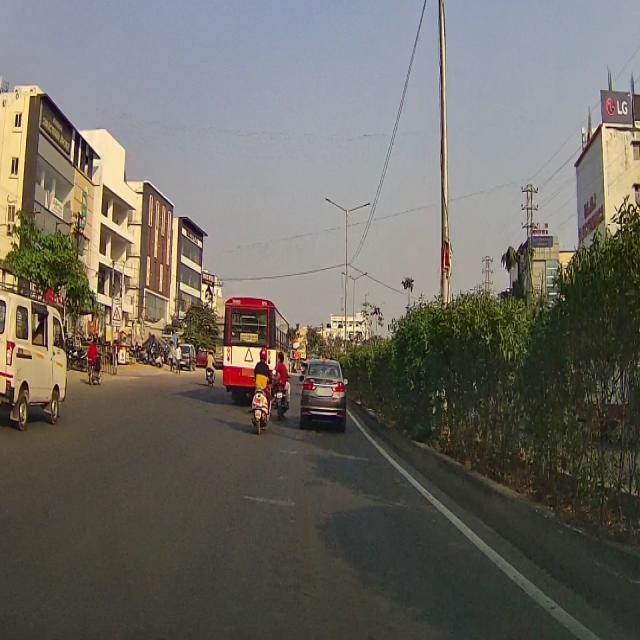bus ahead at: (221, 297, 280, 393)
car ahead at: (0, 288, 69, 434), (299, 361, 352, 428)
